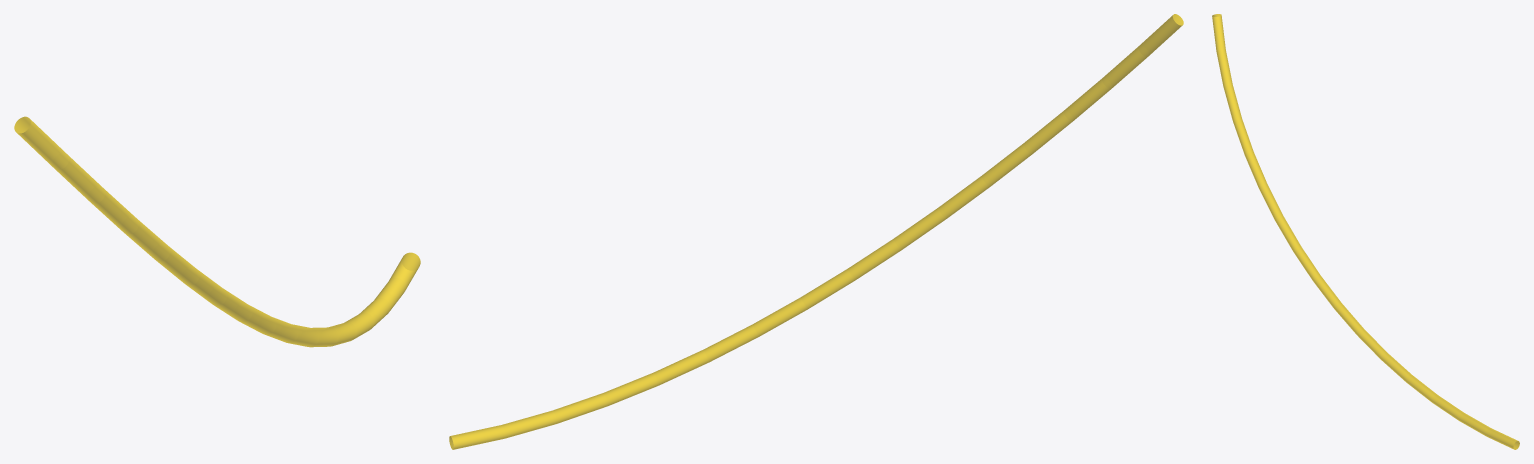
Rendered from Event_84804159_track_16.fbx.
3 views of the same model, side by side, from view 1: azimuth 30°, elevation 25°; view 2: azimuth 150°, elevation 25°; view 3: azimuth 270°, elevation 25° (orthographic). The views are drawn at different scales.
Parts seen in each view (by area): view 1: Model; view 2: Model; view 3: Model.
Part boxes in pixels (x1=…): Model: x1=14, y1=116, x2=420, y2=347; Model: x1=449, y1=14, x2=1183, y2=449; Model: x1=1212, y1=14, x2=1519, y2=449.
Bounding box in the file's own units: 1.67 × 1.23 × 1.27.
